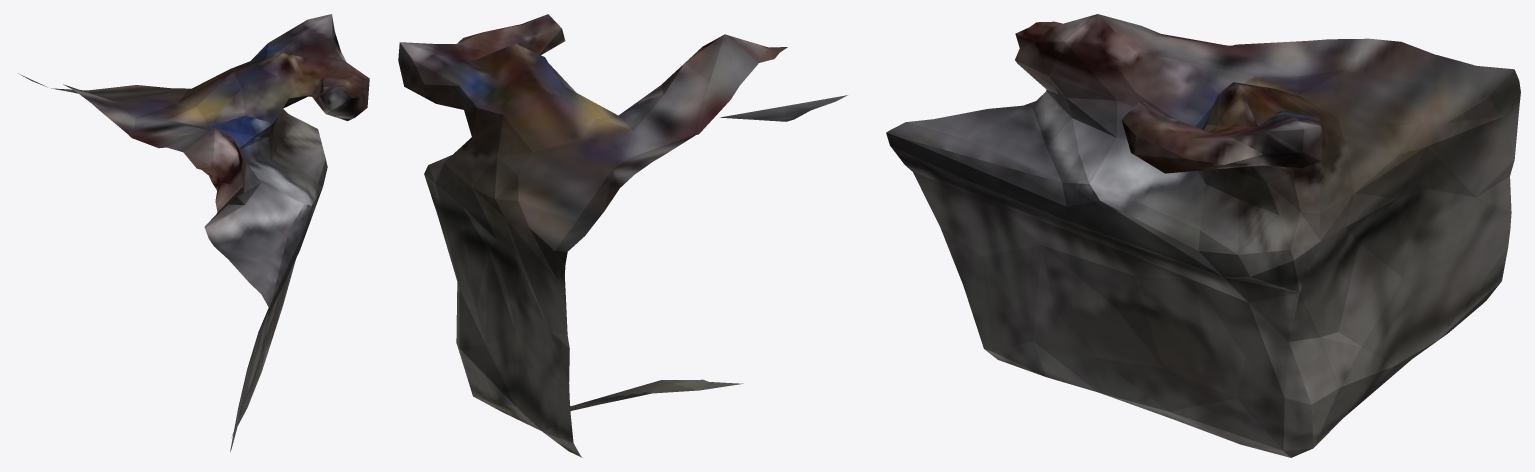
The picture shows the model from 3 angles, left to right: view 1: azimuth 30°, elevation 25°; view 2: azimuth 150°, elevation 25°; view 3: azimuth 270°, elevation 25°; orthographic projection. The views are drawn at different scales.
Size of the model in its own units: 0.1856 by 0.2312 by 0.3519.
Materials: 1 (1 with a texture image).
